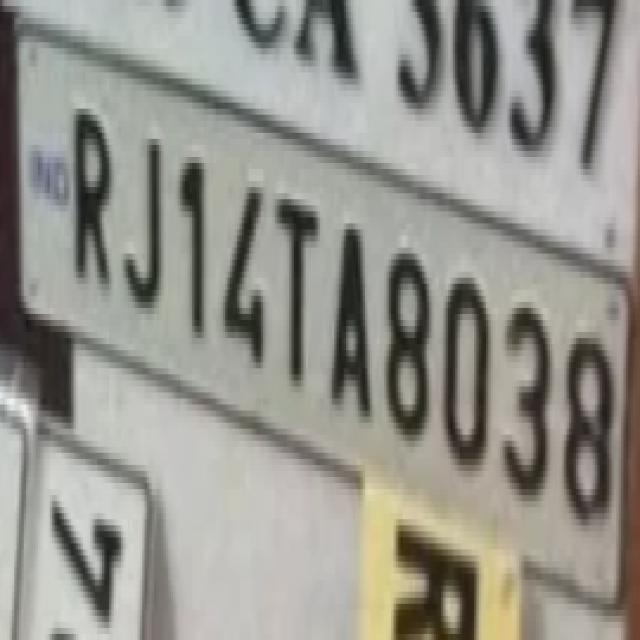0: (441, 256, 494, 474)
1: (176, 147, 210, 349)
3: (502, 287, 556, 502)
4: (221, 166, 271, 372)
8: (562, 315, 617, 546), (383, 237, 435, 456)
A: (328, 208, 375, 426)
J: (118, 124, 168, 308)
R: (71, 98, 115, 288)
T: (273, 176, 320, 402)
